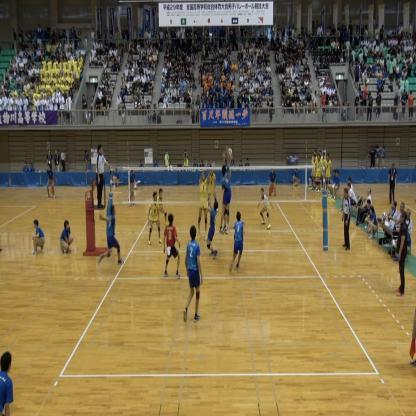spike: (218, 144, 236, 236)
